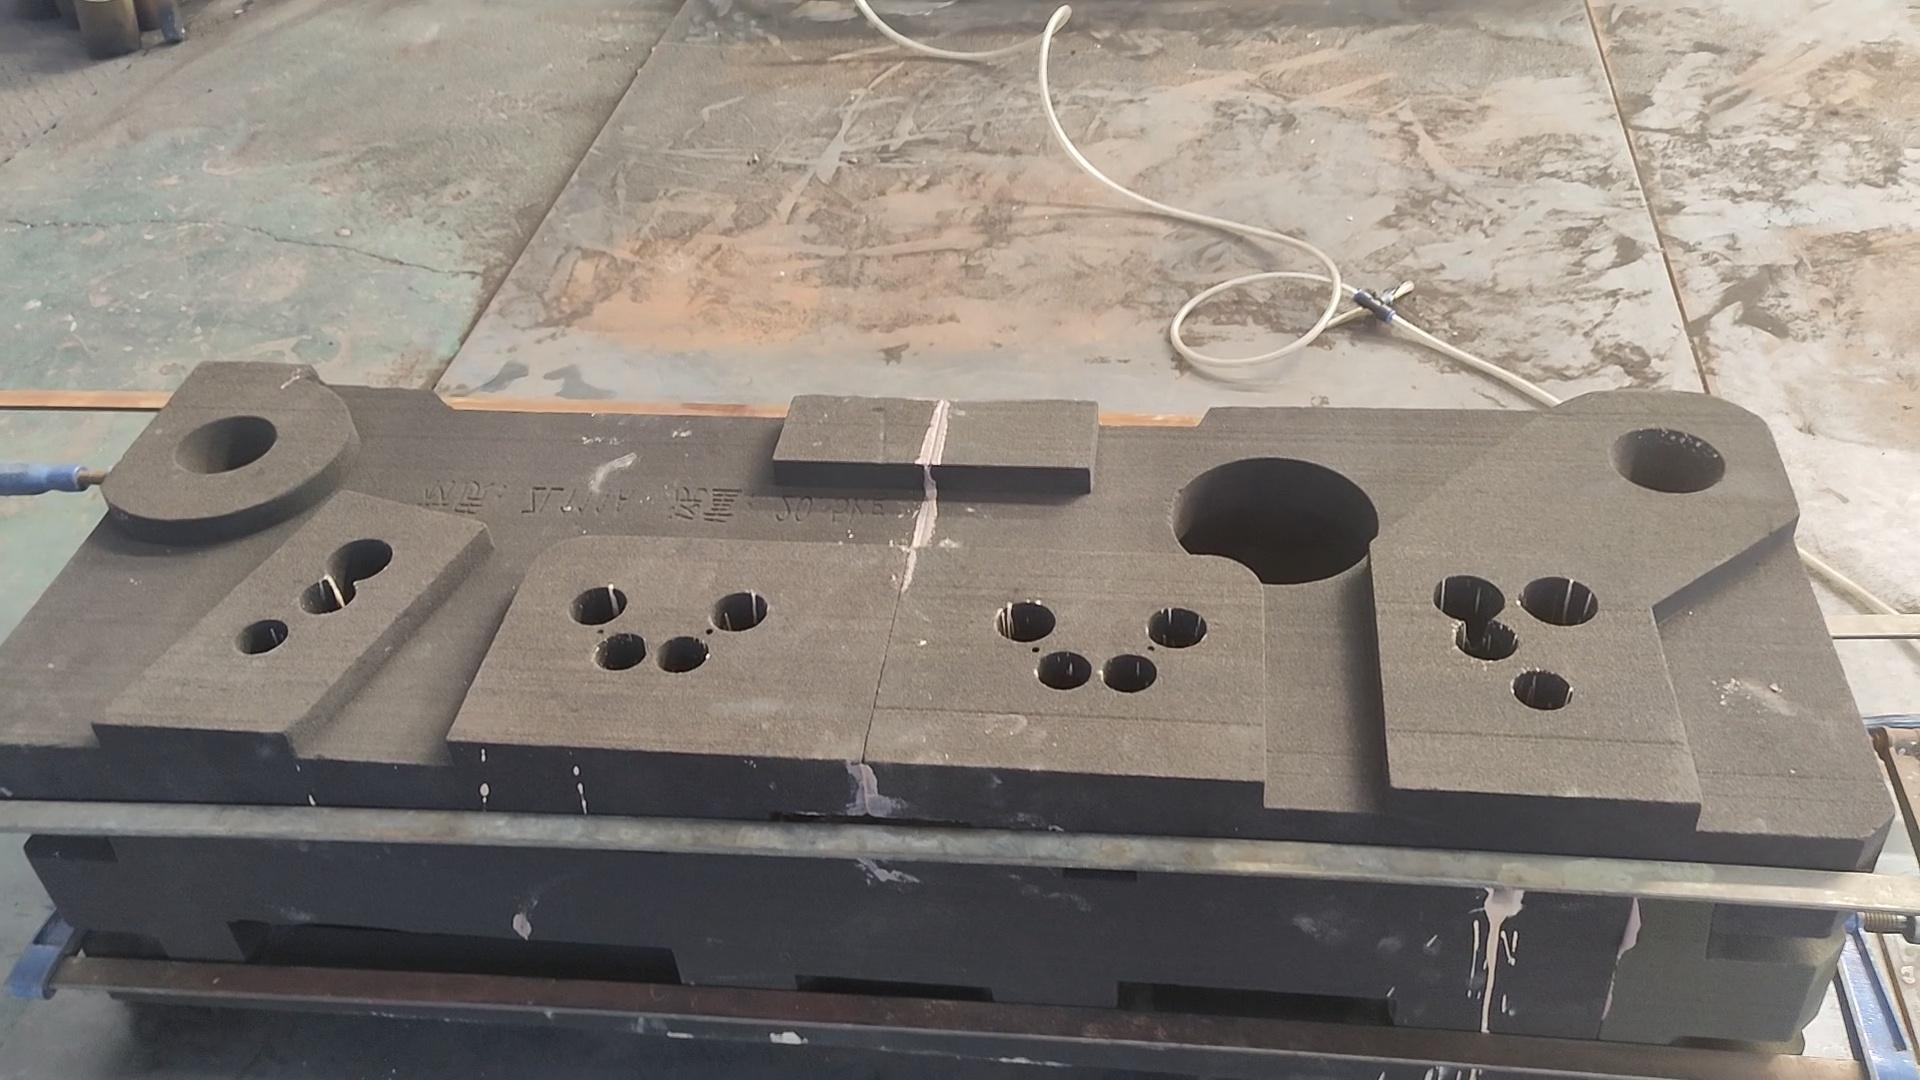pouring hole: (1611, 429, 1726, 495), (173, 415, 278, 473)
